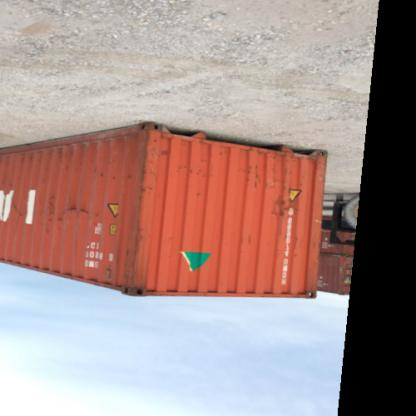Damage: (116, 224, 158, 292), (36, 198, 108, 232), (18, 142, 96, 172), (242, 152, 292, 196), (98, 162, 140, 194), (270, 199, 292, 225), (176, 166, 211, 182), (235, 230, 256, 254), (8, 198, 28, 222), (154, 146, 172, 160)
